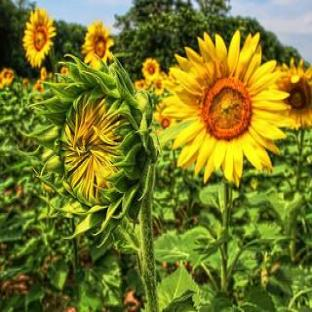sunflower: (159, 31, 294, 188)
